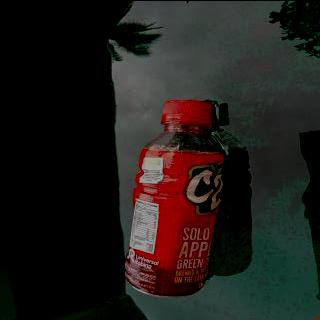bottle: (120, 95, 229, 300)
